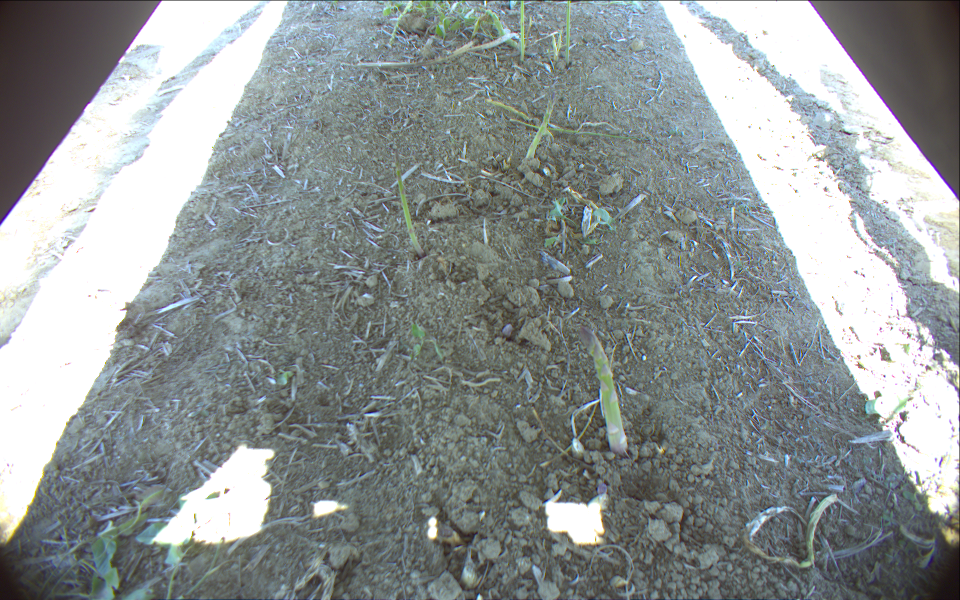aspa: (573, 325, 630, 461), (390, 151, 429, 260), (521, 90, 557, 165), (515, 1, 528, 64), (563, 1, 573, 71)
